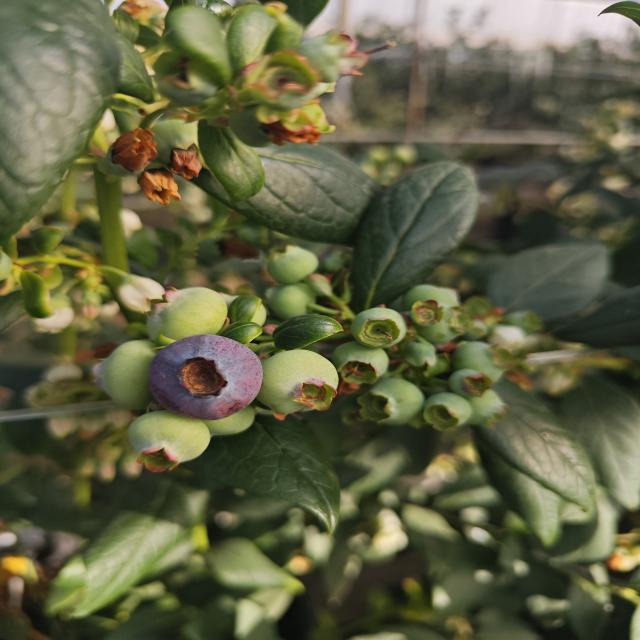ripe: (145, 332, 265, 422)
